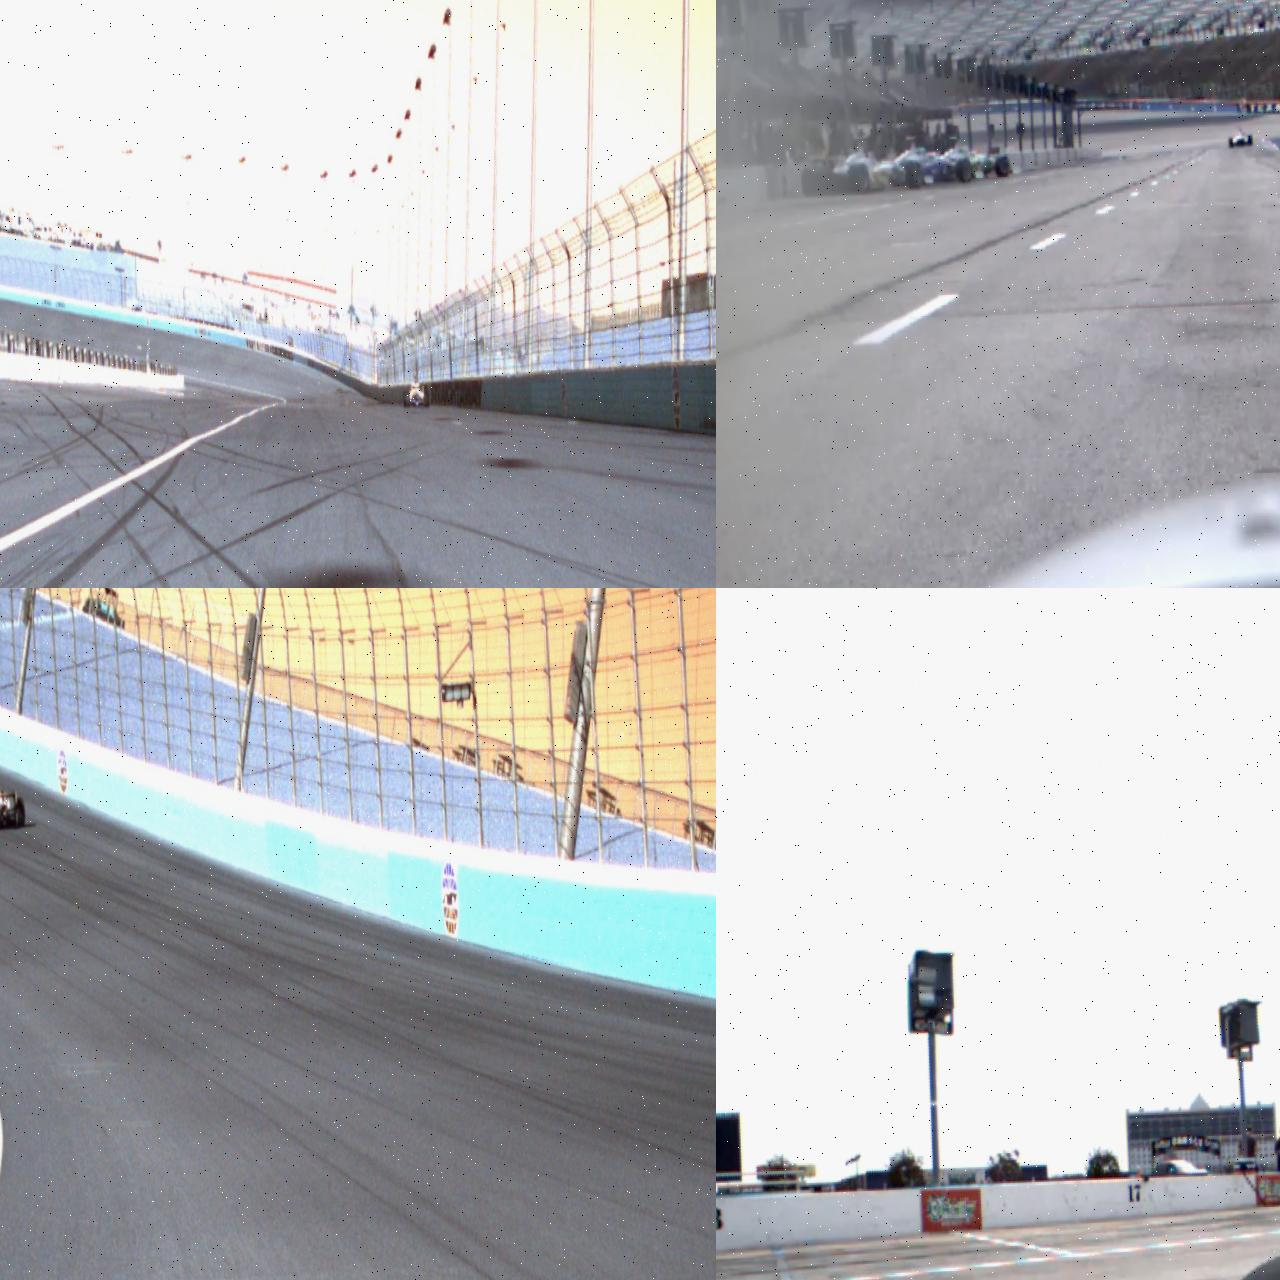AV: (0, 767, 25, 831), (402, 374, 429, 409), (1228, 128, 1252, 148)
Wheel: (846, 163, 870, 193), (801, 166, 824, 196), (905, 162, 922, 188), (955, 157, 972, 184), (994, 156, 1009, 177), (15, 797, 25, 826), (424, 390, 429, 407), (404, 390, 409, 407), (1247, 135, 1253, 145), (1228, 137, 1232, 148)
